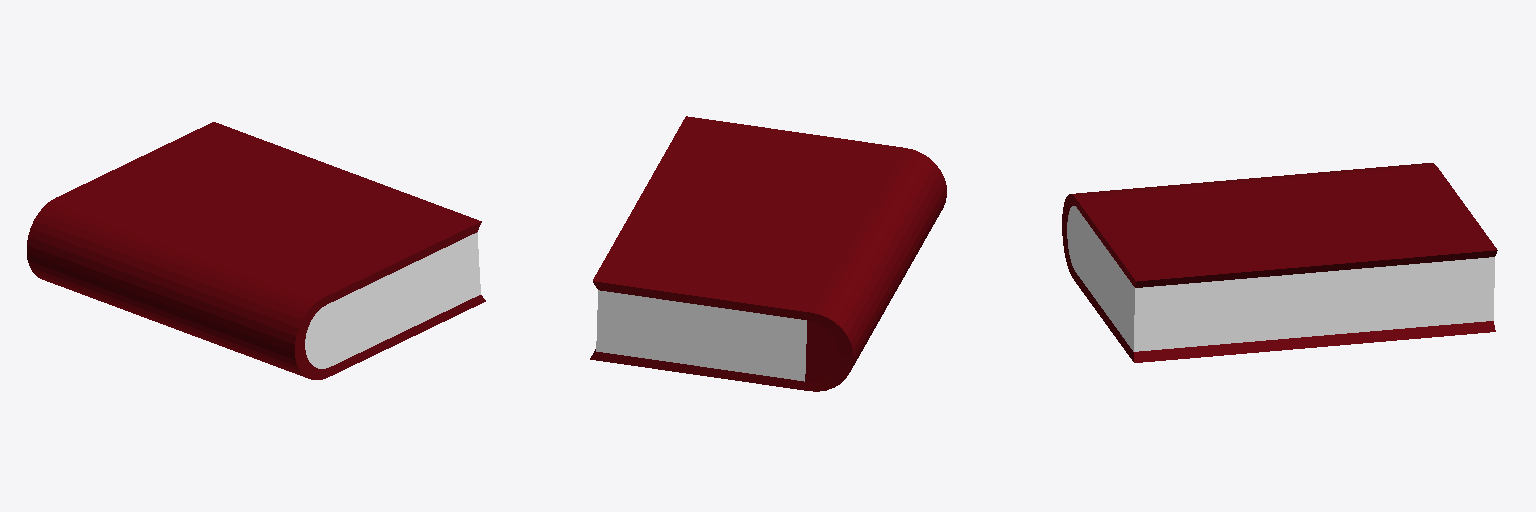
File: todo2.obj
3 renders of one model, left to right at view 1: azimuth 30°, elevation 25°; view 2: azimuth 150°, elevation 25°; view 3: azimuth 270°, elevation 25°, orthographic.
Parts seen in each view (by area): view 1: Cylinder.007; view 2: Cylinder.007; view 3: Cylinder.007.
Boxes of the visible parts, box(x1,y1,x2,y2) form: Cylinder.007: box(27, 122, 485, 379); Cylinder.007: box(590, 116, 946, 391); Cylinder.007: box(1062, 163, 1497, 362).
Size of the model in its own units: 0.4246 by 0.1277 by 0.5085.